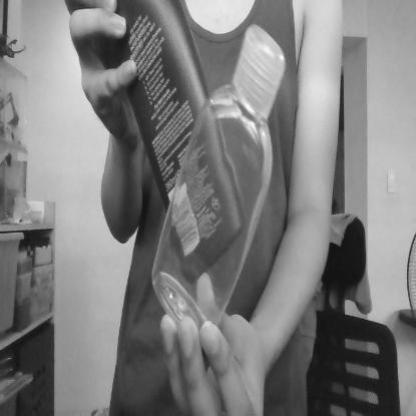Plastic Bottle: (155, 20, 286, 363)
